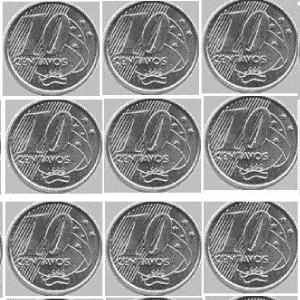10 cent: (4, 203, 103, 299), (107, 201, 203, 299), (105, 98, 201, 194), (206, 201, 299, 300), (2, 102, 101, 195), (198, 0, 298, 92), (0, 0, 95, 94), (201, 98, 297, 189), (105, 0, 194, 95)
